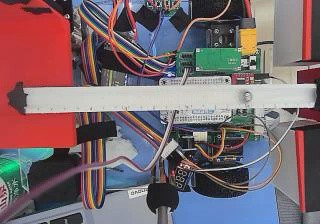ironball: (241, 89, 252, 102)
